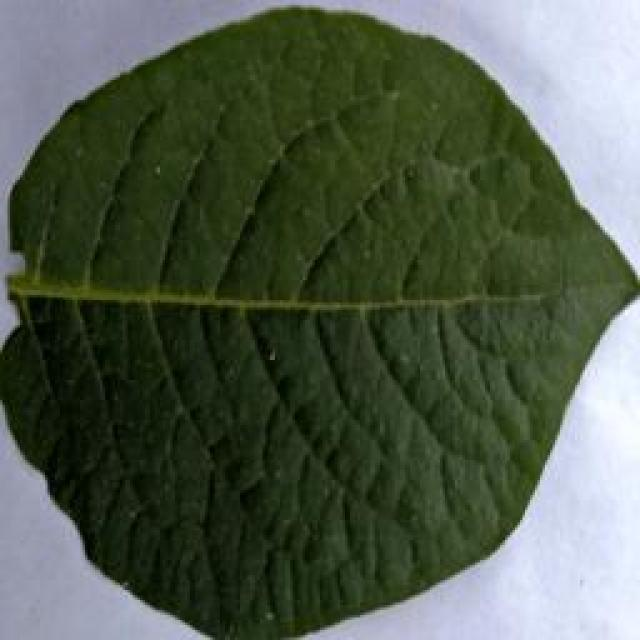Potato_Healthy: (1, 7, 628, 636)
